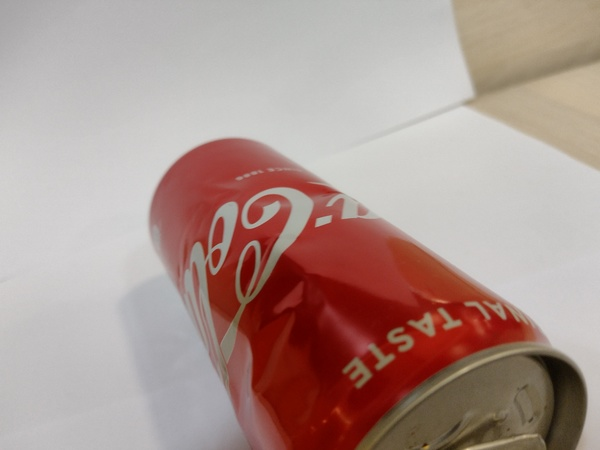can: (144, 133, 593, 445)
